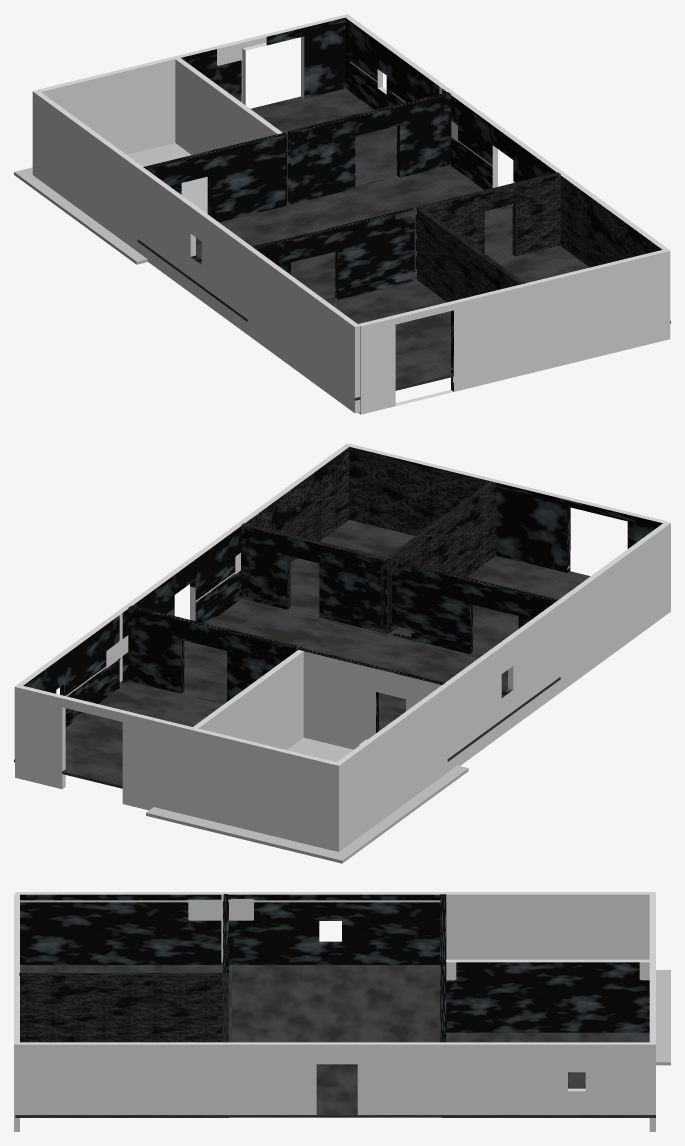
Rendered from HouseThatFitsTheInterloper.fbx.
3 views of the same model, one above another, from view 1: azimuth 30°, elevation 25°; view 2: azimuth 150°, elevation 25°; view 3: azimuth 270°, elevation 25° (orthographic). The views are drawn at different scales.
Parts seen in each view (by area): view 1: Cube.017, Cube.006, Cube.008, Cube.013, Cube.004, Cube.012, Cube.015, Cube.020, Cube.011, Cube.021, Cube.022, Cube.023 (+2 smaller); view 2: Cube.017, Cube.013, Cube.008, Cube.006, Cube.004, Cube.021, Cube.015, Cube.020, Cube.012, Cube.011, Cube.005, Cube.023 (+2 smaller); view 3: Cube.008, Cube.017, Cube.004, Cube.022, Cube.023, Cube.005, Cube.015, Cube.024, Cube.013, Cube.006, Cube.012, Cube.021 (+2 smaller).
Part boxes in pixels (left/top/right/bottom): Cube.017: left=32, top=90, right=360, bottom=413; Cube.006: left=358, top=248, right=670, bottom=414; Cube.008: left=345, top=14, right=670, bottom=267; Cube.013: left=38, top=14, right=349, bottom=154; Cube.004: left=137, top=165, right=512, bottom=321; Cube.012: left=282, top=92, right=451, bottom=205; Cube.015: left=326, top=245, right=670, bottom=400; Cube.020: left=253, top=207, right=419, bottom=299; Cube.011: left=143, top=133, right=285, bottom=222; Cube.021: left=417, top=172, right=560, bottom=277; Cube.022: left=175, top=58, right=282, bottom=154; Cube.023: left=417, top=208, right=525, bottom=302; Cube.017: left=333, top=521, right=670, bottom=851; Cube.013: left=15, top=684, right=336, bottom=850; Cube.008: left=14, top=444, right=349, bottom=759; Cube.006: left=345, top=443, right=666, bottom=572; Cube.004: left=129, top=599, right=560, bottom=761; Cube.021: left=241, top=523, right=388, bottom=633; Cube.015: left=242, top=520, right=590, bottom=656; Cube.020: left=385, top=558, right=557, bottom=654; Cube.012: left=128, top=605, right=301, bottom=701; Cube.011: left=299, top=648, right=444, bottom=749; Cube.005: left=14, top=680, right=222, bottom=788; Cube.023: left=385, top=481, right=496, bottom=632; Cube.008: left=15, top=1042, right=655, bottom=1114; Cube.017: left=15, top=892, right=655, bottom=964; Cube.004: left=229, top=965, right=445, bottom=1117; Cube.022: left=446, top=959, right=649, bottom=1032; Cube.023: left=19, top=973, right=223, bottom=1042; Cube.005: left=442, top=1032, right=655, bottom=1117; Cube.015: left=15, top=962, right=228, bottom=1117; Cube.024: left=656, top=970, right=670, bottom=1065; Cube.013: left=649, top=894, right=655, bottom=1131; Cube.006: left=14, top=894, right=19, bottom=1131; Cube.012: left=440, top=961, right=446, bottom=1042; Cube.021: left=222, top=973, right=228, bottom=1042.
Bounding box in the file's own units: 1950 × 507 × 3421.
